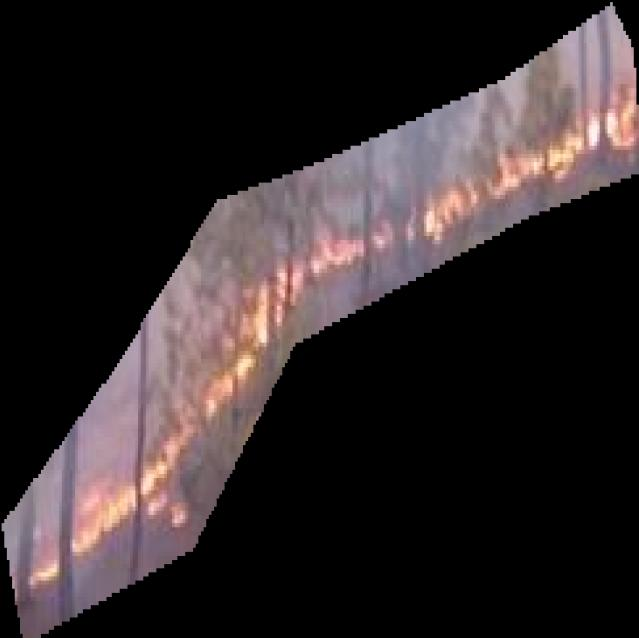fire: (1, 1, 639, 638)
